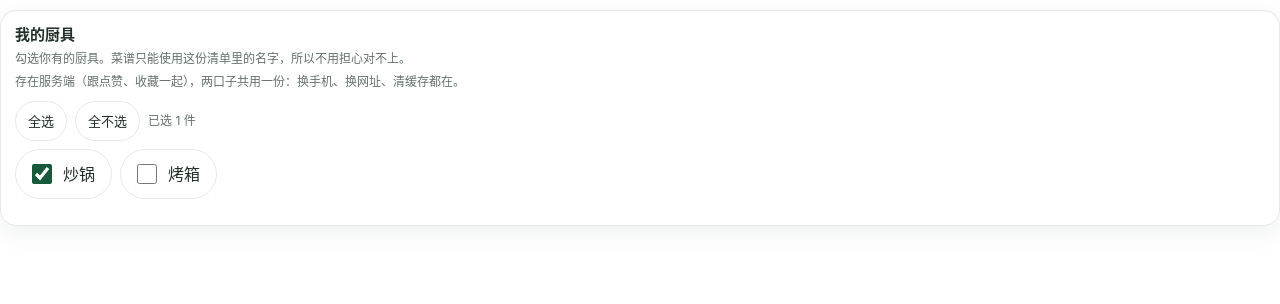
Scenario: KitchenToolsPanel（勾选式，无自由输入） › **保存失败时明确提示**（P1-5 回归：不能静默失效）
Click the checkbox labelled "烤箱": (147, 174) [137, 164, 157, 184]
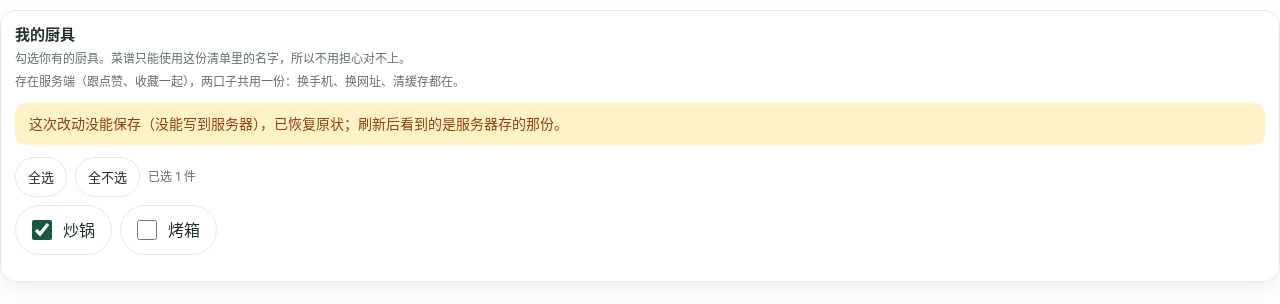
Result: the text "这次改动没能保存（没能写到服务器），已恢复原状；刷新后看到的是服务器存的那份。" is shown at [15, 103, 1265, 145]
